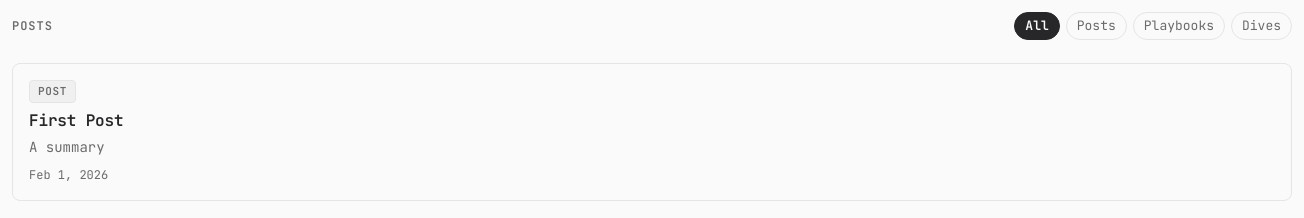
it: PostList empty state › renders "No posts yet." when the filtered tab has zero posts
Expected: the link "First Post" is shown, [29,110,123,130]
Click the tab "Playbooks": (1179, 26) [1133,12,1225,40]
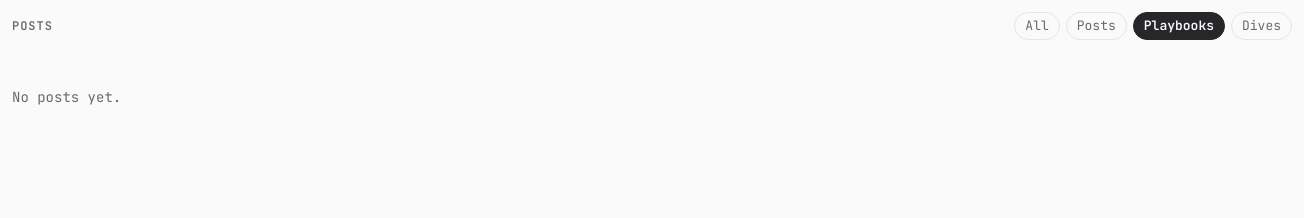
Now the text "No posts yet." is shown, box [12,88,121,106]
